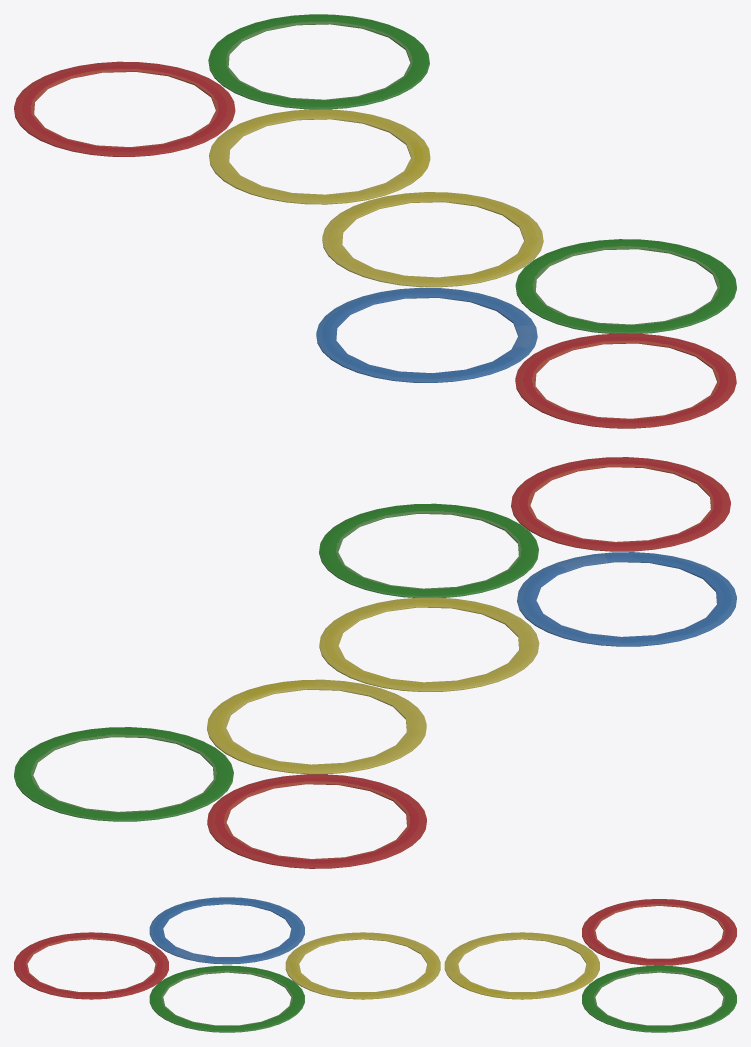
File: objects_un_pobjhopscotch01.gltf
3 renders of one model, top to bottom at view 1: azimuth 30°, elevation 25°; view 2: azimuth 150°, elevation 25°; view 3: azimuth 270°, elevation 25°, orthographic. The views are drawn at different scales.
Visible parts, largest first — view 1: um_objects_un_pobjhopscotch01_model_lod0Shape:objects_un_pob, um_objects_un_pobjhopscotch01_model_lod1Shape:objects_un_pob; view 2: um_objects_un_pobjhopscotch01_model_lod0Shape:objects_un_pob, um_objects_un_pobjhopscotch01_model_lod1Shape:objects_un_pob; view 3: um_objects_un_pobjhopscotch01_model_lod0Shape:objects_un_pob, um_objects_un_pobjhopscotch01_model_lod1Shape:objects_un_pob.
Part boxes in pixels (left/top/right/bottom): um_objects_un_pobjhopscotch01_model_lod0Shape:objects_un_pob: left=14, top=14, right=736, bottom=428; um_objects_un_pobjhopscotch01_model_lod1Shape:objects_un_pob: left=15, top=14, right=735, bottom=426; um_objects_un_pobjhopscotch01_model_lod0Shape:objects_un_pob: left=14, top=457, right=736, bottom=868; um_objects_un_pobjhopscotch01_model_lod1Shape:objects_un_pob: left=15, top=457, right=735, bottom=866; um_objects_un_pobjhopscotch01_model_lod0Shape:objects_un_pob: left=14, top=897, right=736, bottom=1032; um_objects_un_pobjhopscotch01_model_lod1Shape:objects_un_pob: left=14, top=897, right=736, bottom=1030.
Bounding box in the file's own units: 1.7 × 0.00788 × 3.86.
Materials: 2 (1 with a texture image).
